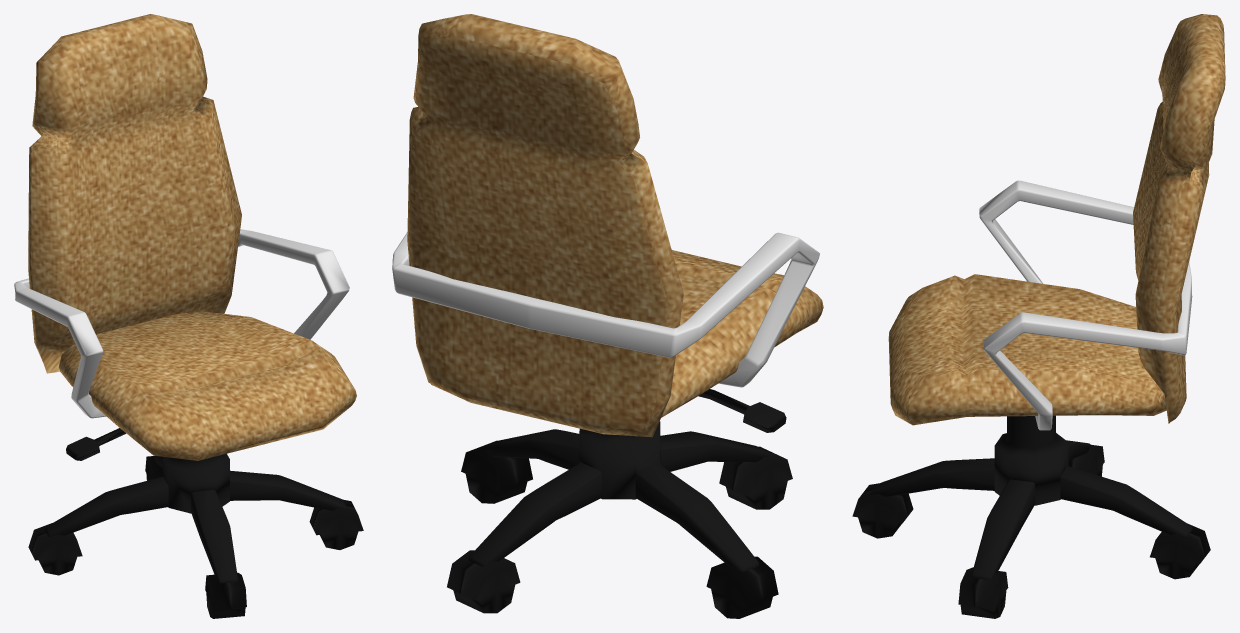
Rendered from Kursi2.fbx.
The picture shows the model from 3 angles, left to right: view 1: azimuth 30°, elevation 25°; view 2: azimuth 150°, elevation 25°; view 3: azimuth 270°, elevation 25°; orthographic projection. The views are drawn at different scales.
Parts seen in each view (by area): view 1: Computer Chair; view 2: Computer Chair; view 3: Computer Chair.
Boxes of the visible parts, x1,y1,x2,y2 form: Computer Chair: (14,14,363,618); Computer Chair: (392,14,823,618); Computer Chair: (852,14,1225,618).
Size of the model in its own units: 91.68 by 145 by 95.47.
3 materials, 1 textured.
